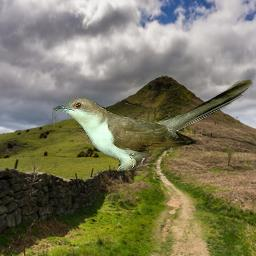Cuckoo: (52, 78, 253, 170)
